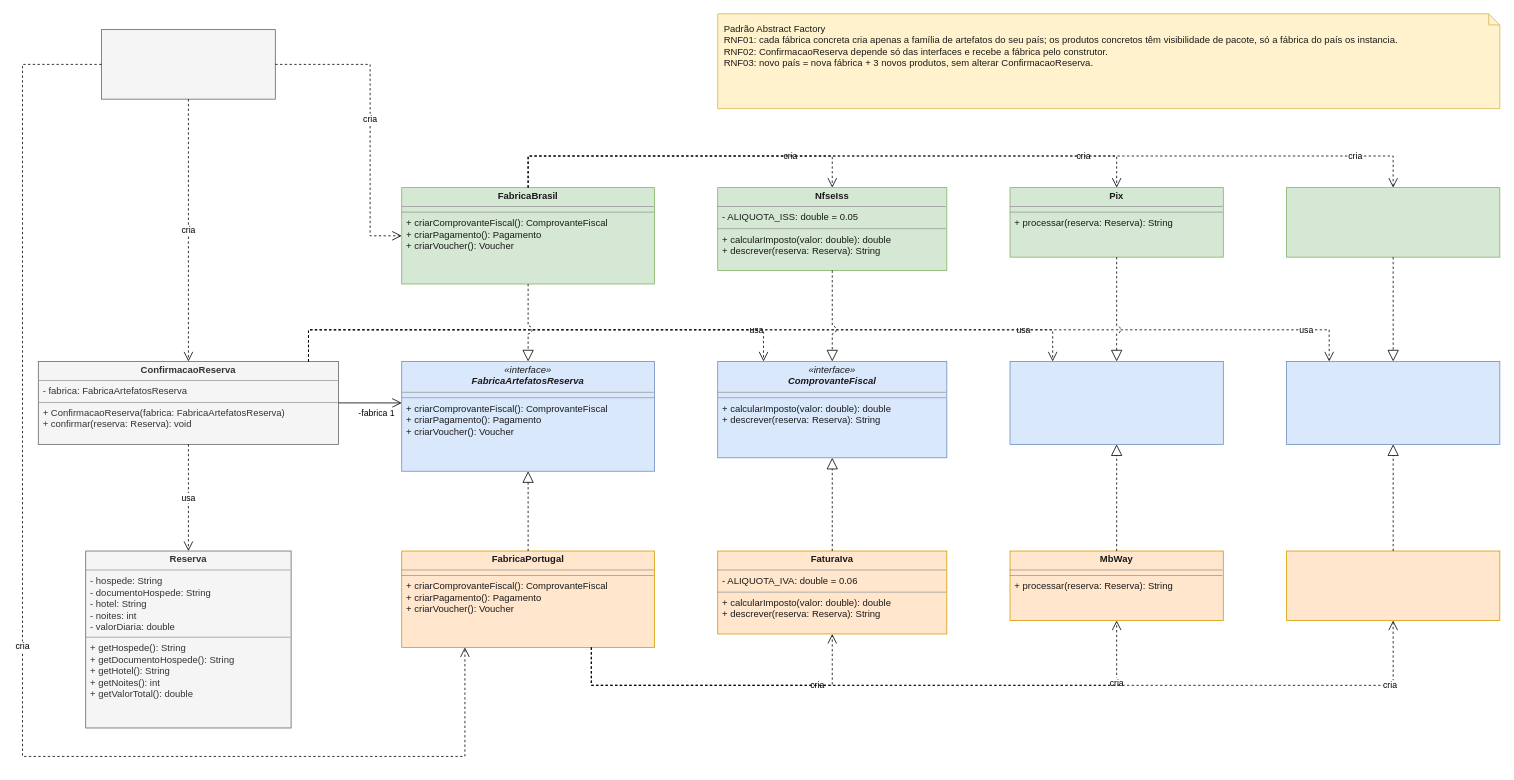
Some shapes in this 1514 by 780 pixel diagram are drawn without their labels. Here are the shapes that lost their labels. From the top down, the box of each, then its label:
(101, 29, 275, 99): Main + main(args: String[]): void
(1286, 187, 1500, 257): VoucherCpf + descrever(reserva: Reserva): String
(1009, 361, 1223, 444): «interface» Pagamento + processar(reserva: Reserva): String
(1286, 361, 1500, 444): «interface» Voucher + descrever(reserva: Reserva): String
(1286, 550, 1500, 621): VoucherNif + descrever(reserva: Reserva): String
